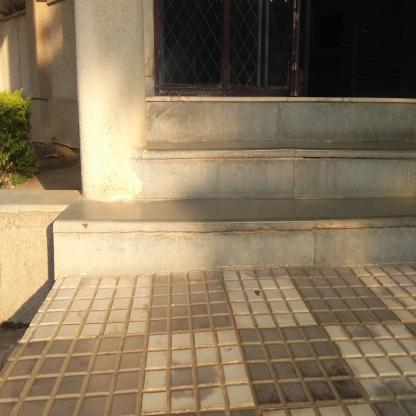stairs: (168, 91, 394, 288)
